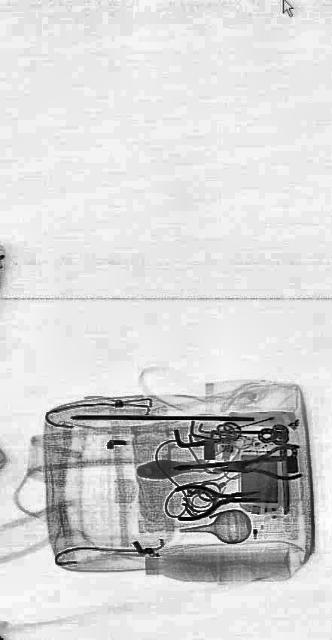Pliers: (212, 442, 302, 486), (174, 476, 260, 522)
